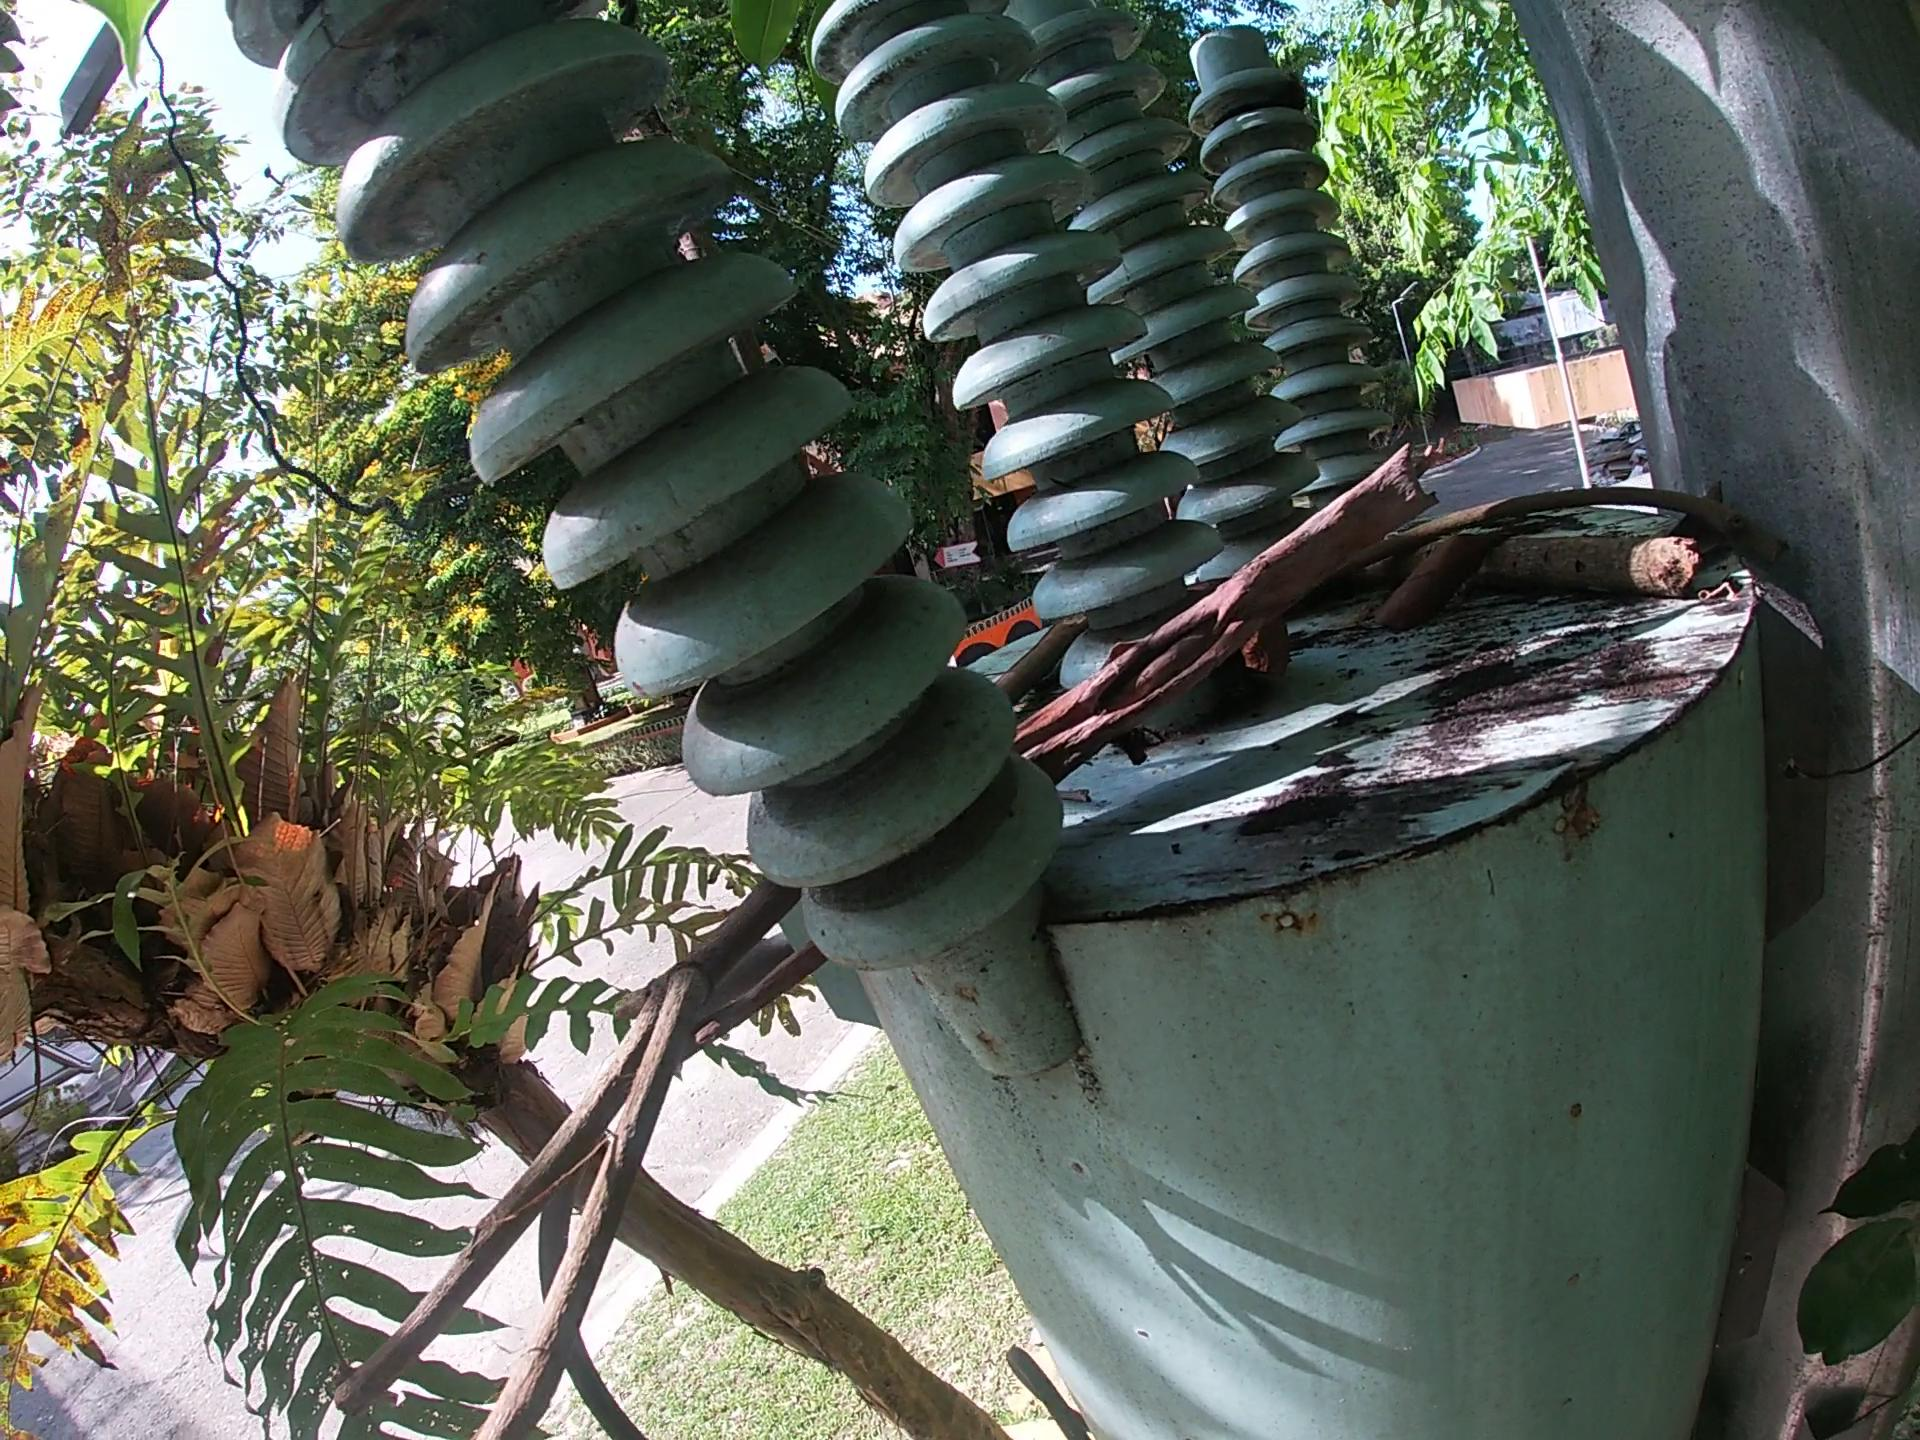leaf: (1352, 517, 1519, 638)
tree branch: (319, 874, 800, 1440), (1011, 436, 1453, 791), (1353, 484, 1801, 573), (1370, 523, 1708, 597), (683, 939, 828, 1056), (992, 613, 1092, 706)
